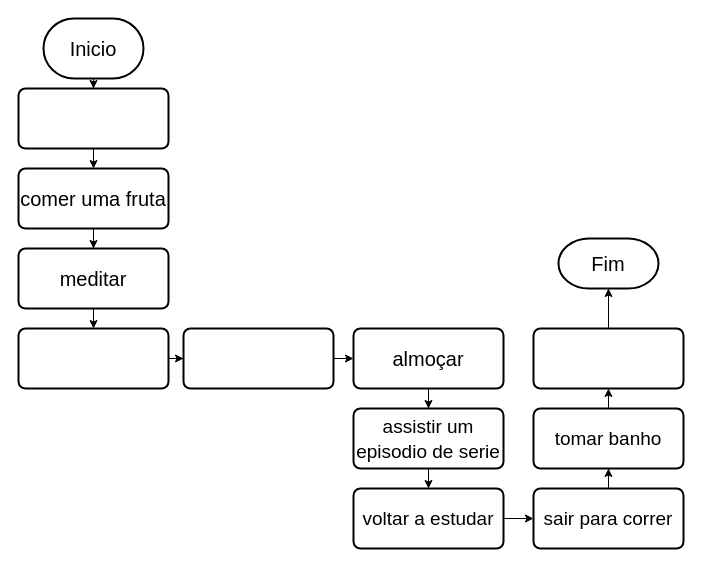
The diagram is 701 pixels wide and 566 high, and some of its shapes have lost their labels. The centre of each missing label's shape, as x and y in pixels:
acordar: the point at 93,118
começar a estudar: the point at 258,358
fazer um alongamento: the point at 93,358
ir dormir: the point at 608,358
